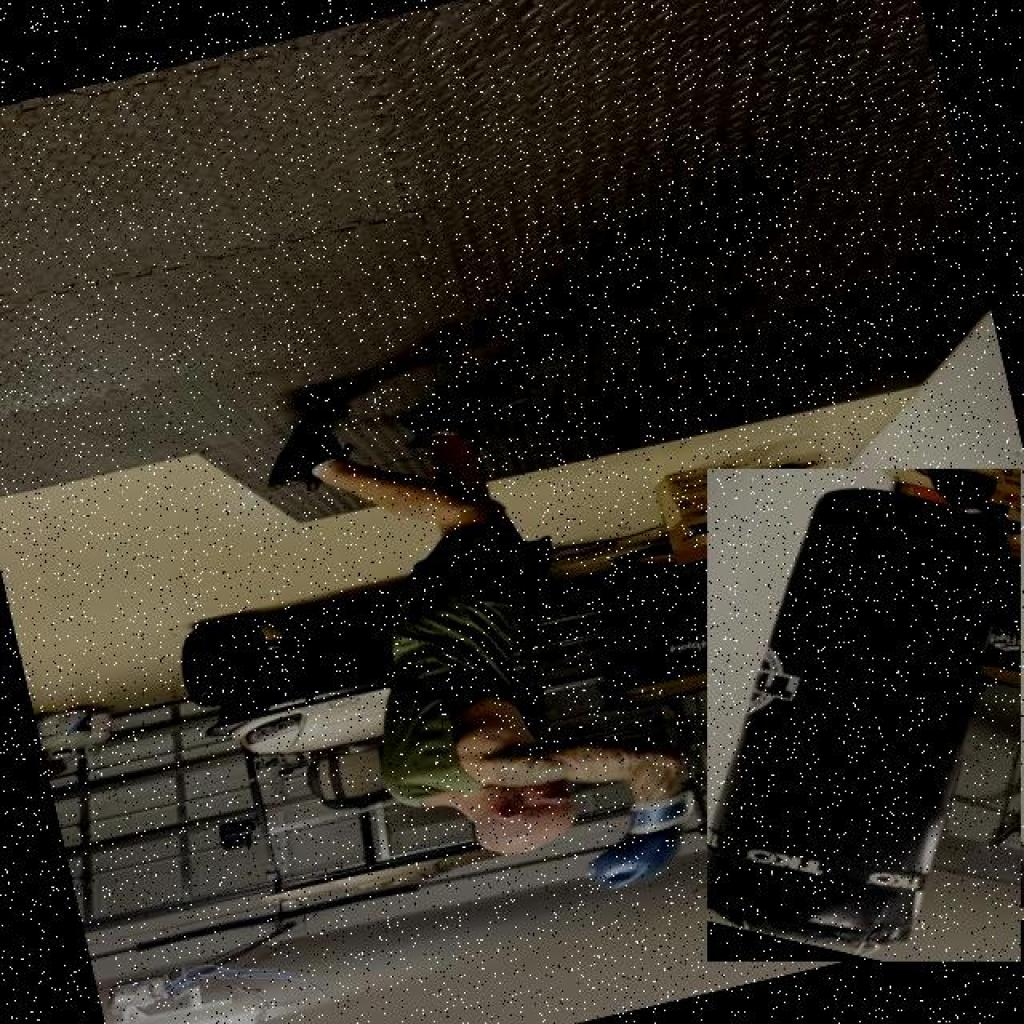bag: (707, 468, 1022, 962)
uppercut: (356, 668, 734, 938)
